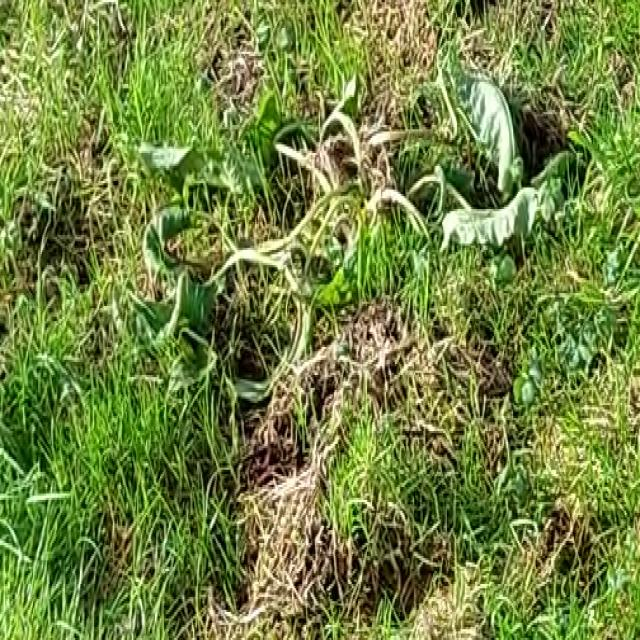organic waste: (99, 28, 575, 422)
